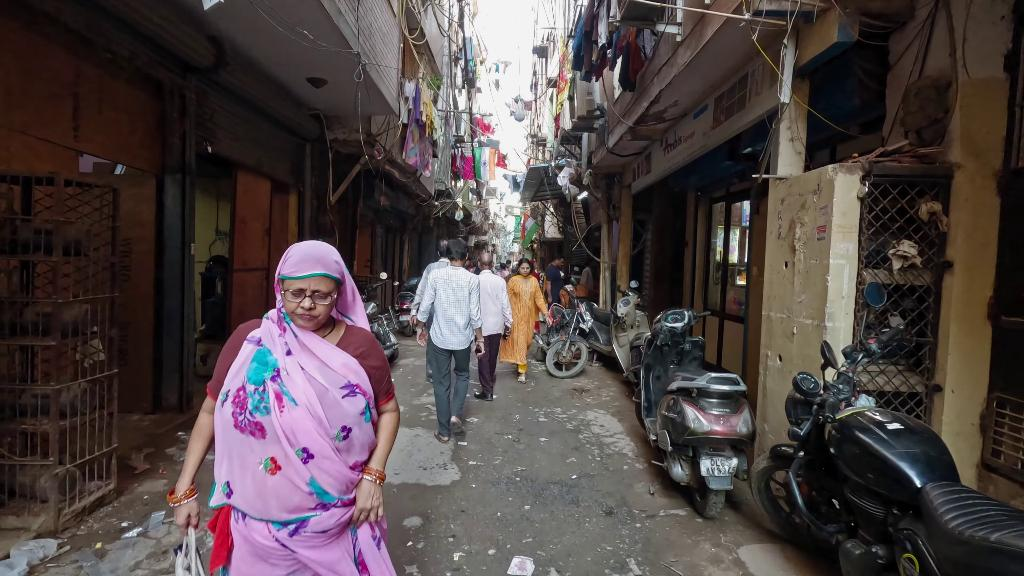garbage: (0, 536, 60, 573), (508, 555, 535, 576)
